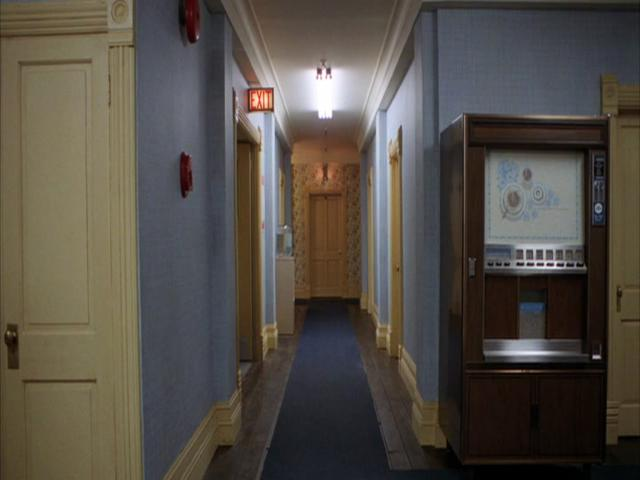Door-handle: (4, 321, 20, 368), (617, 283, 624, 314)
